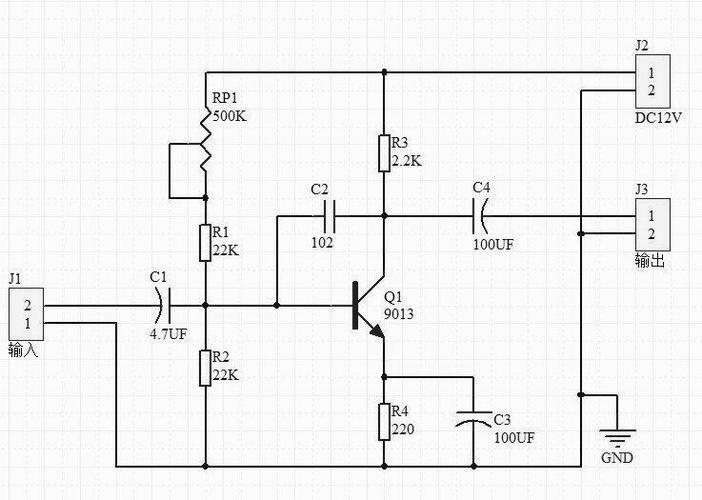cap1: (321, 196, 339, 237)
cap2: (148, 283, 177, 327), (452, 407, 497, 432), (468, 193, 491, 239)
gnd: (594, 424, 639, 450)
res1: (377, 131, 395, 177), (376, 399, 393, 445), (196, 222, 214, 264), (197, 347, 214, 389)
res2: (196, 102, 215, 177)
triode: (349, 269, 393, 345)
